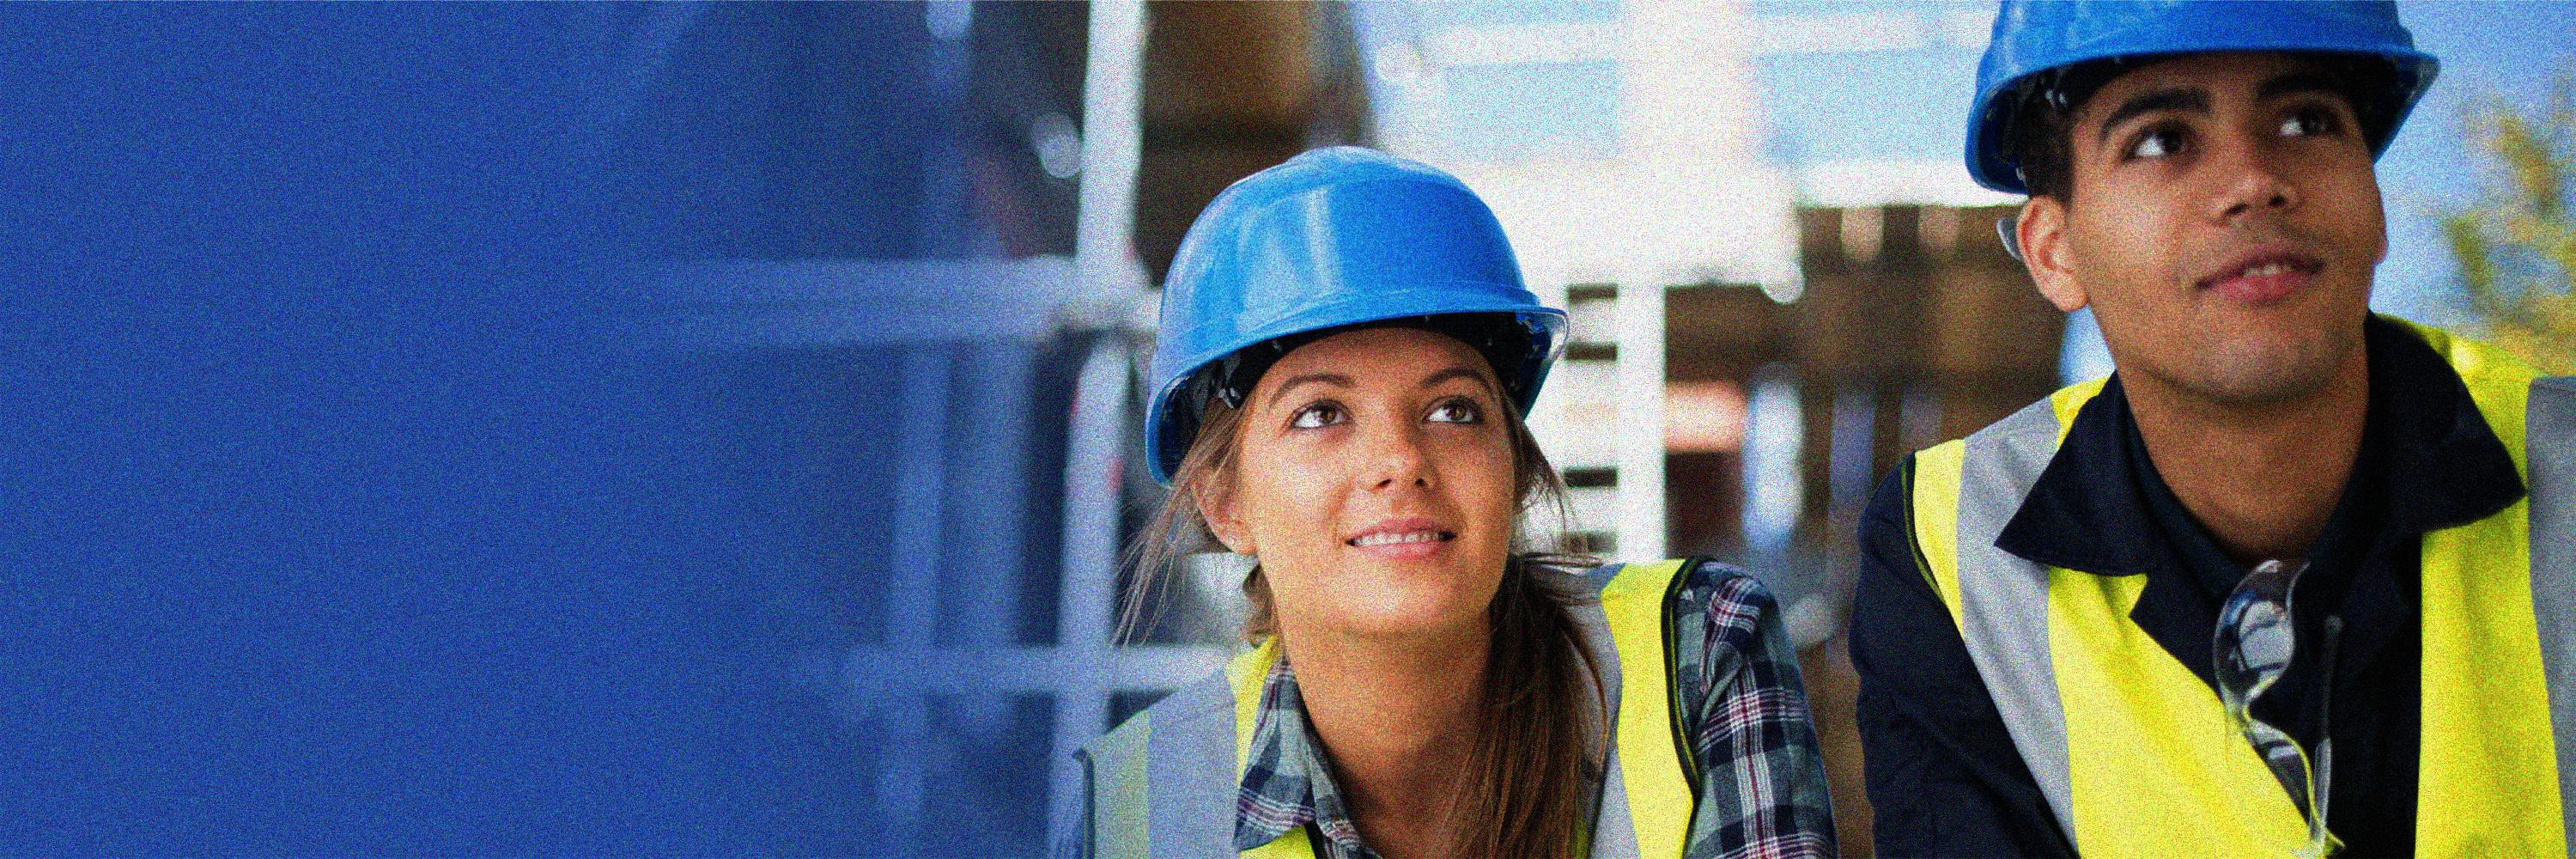helmet: (1142, 146, 1577, 637), (1960, 2, 2443, 404)
